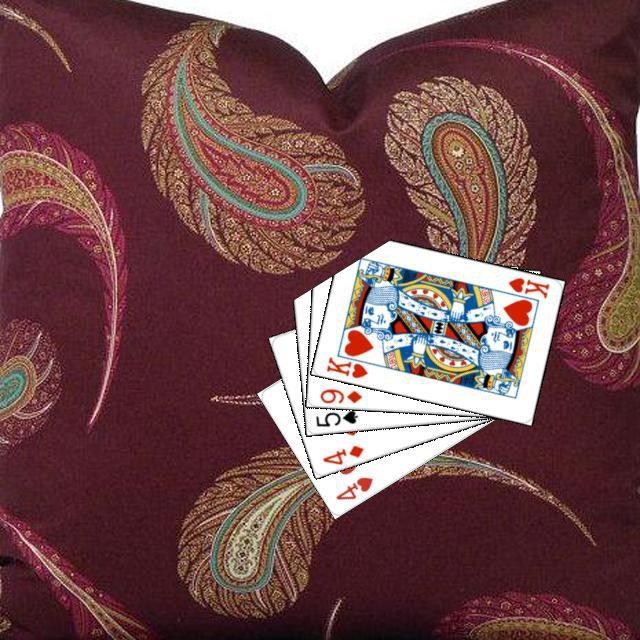4d: (318, 440, 365, 466)
4h: (331, 472, 375, 502)
5s: (311, 406, 359, 428)
9d: (315, 384, 364, 404)
Kh: (321, 348, 376, 380), (503, 273, 551, 300)
